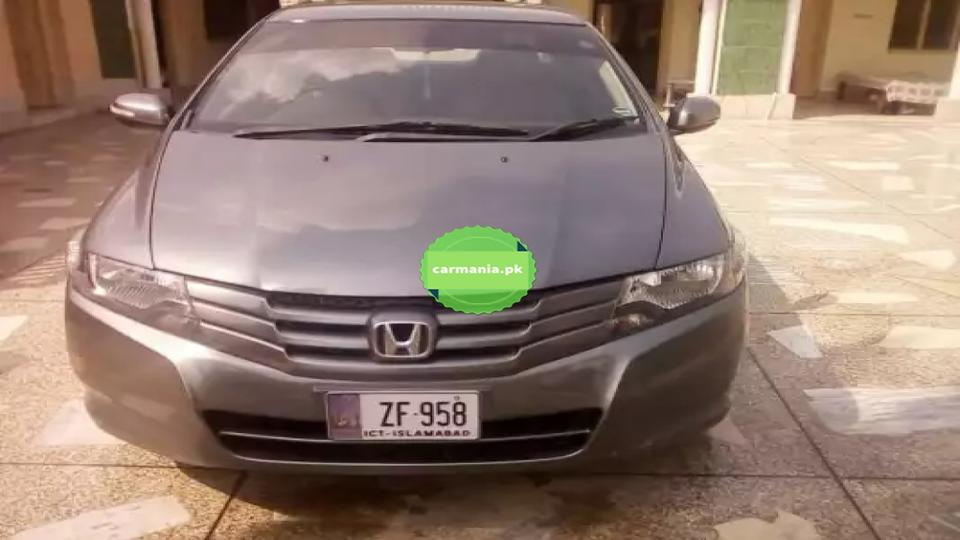NumberPlate: (322, 382, 495, 456)
